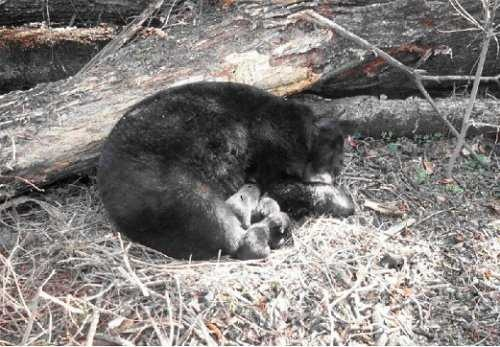bear: (229, 98, 357, 226)
